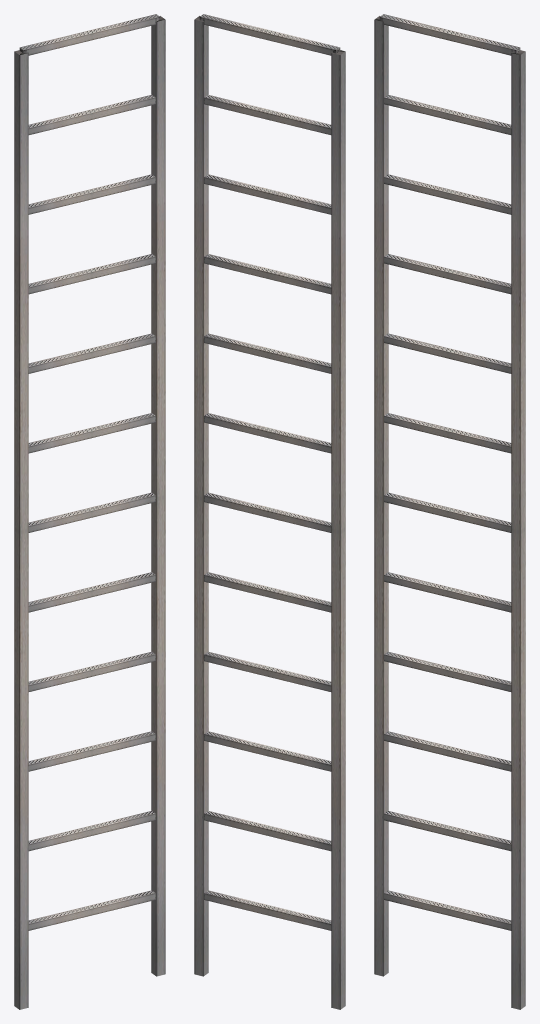
The model's file is ladder_bottom.fbx.
3 views of the same model, side by side, from view 1: azimuth 30°, elevation 25°; view 2: azimuth 150°, elevation 25°; view 3: azimuth 330°, elevation 25° (orthographic).
Parts seen in each view (by area): view 1: mesh_0; view 2: mesh_0; view 3: mesh_0.
Boxes of the visible parts, x1,y1,x2,y2 form: mesh_0: (14,14,165,1009); mesh_0: (194,14,345,1009); mesh_0: (374,14,525,1009).
Size of the model in its own units: 64 by 401 by 4.
1 material, 1 textured.
